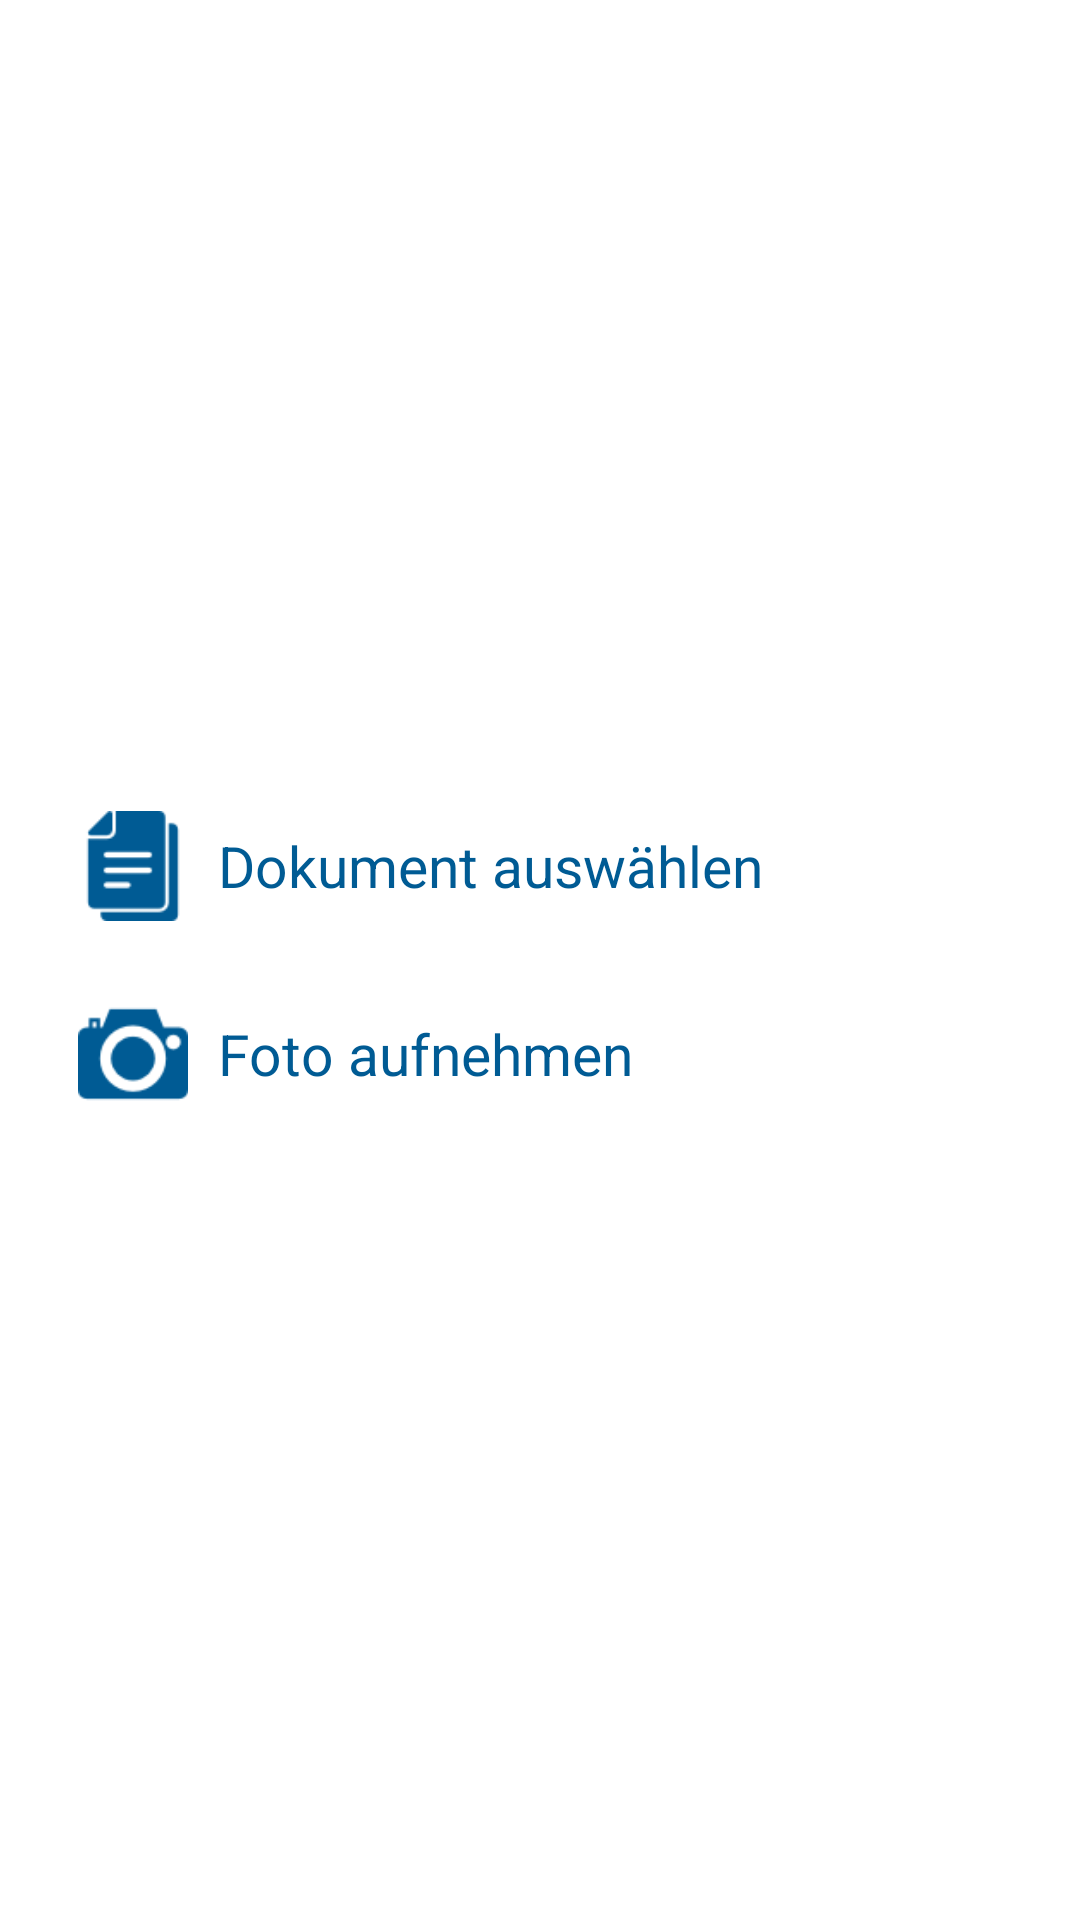

Locate icon controls on the screen. Image size 1080w x 1920h, boxes as (x1, y1, x2, y2).
document choose: (87, 811, 179, 921)
takepic camera: (78, 1008, 188, 1100)
